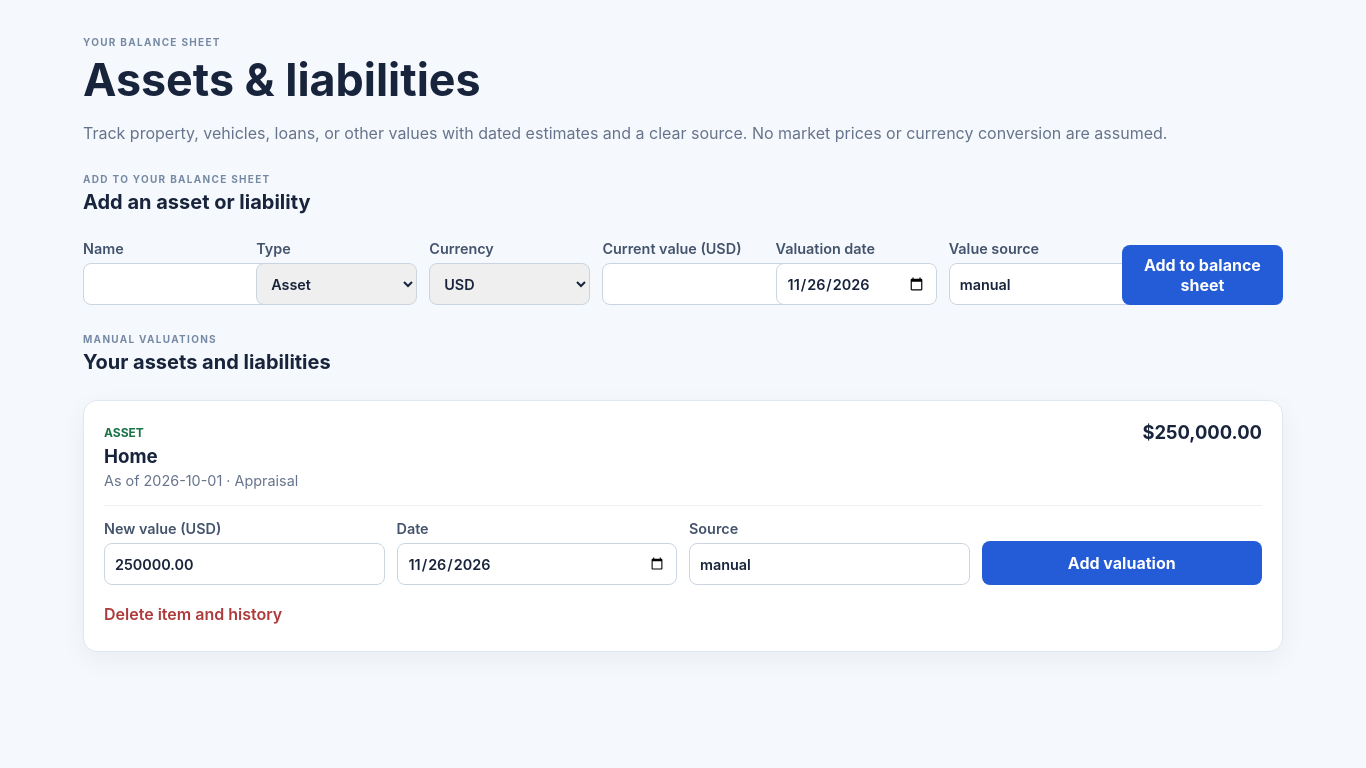
Test: records dated asset valuations with their source
The width and height of the screenshot is (1366, 768).
Expected: the heading "Home" is shown, [104, 445, 158, 468]
Replace the text in the number field labelled "New value (USD)" with "260000" at [244, 564], box [104, 543, 384, 585]
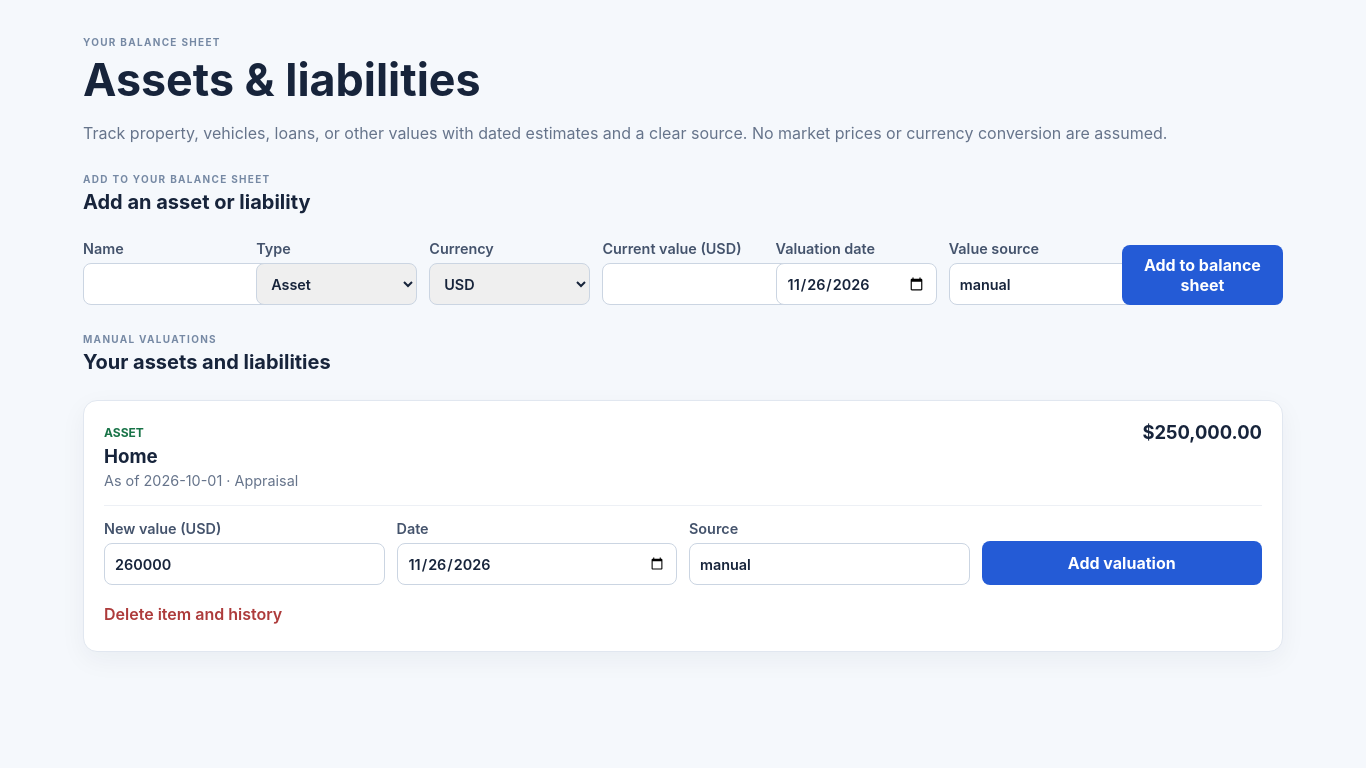
Replace the text in the field labelled "Source" with "Annual appraisal" at [829, 564], box [689, 543, 970, 585]
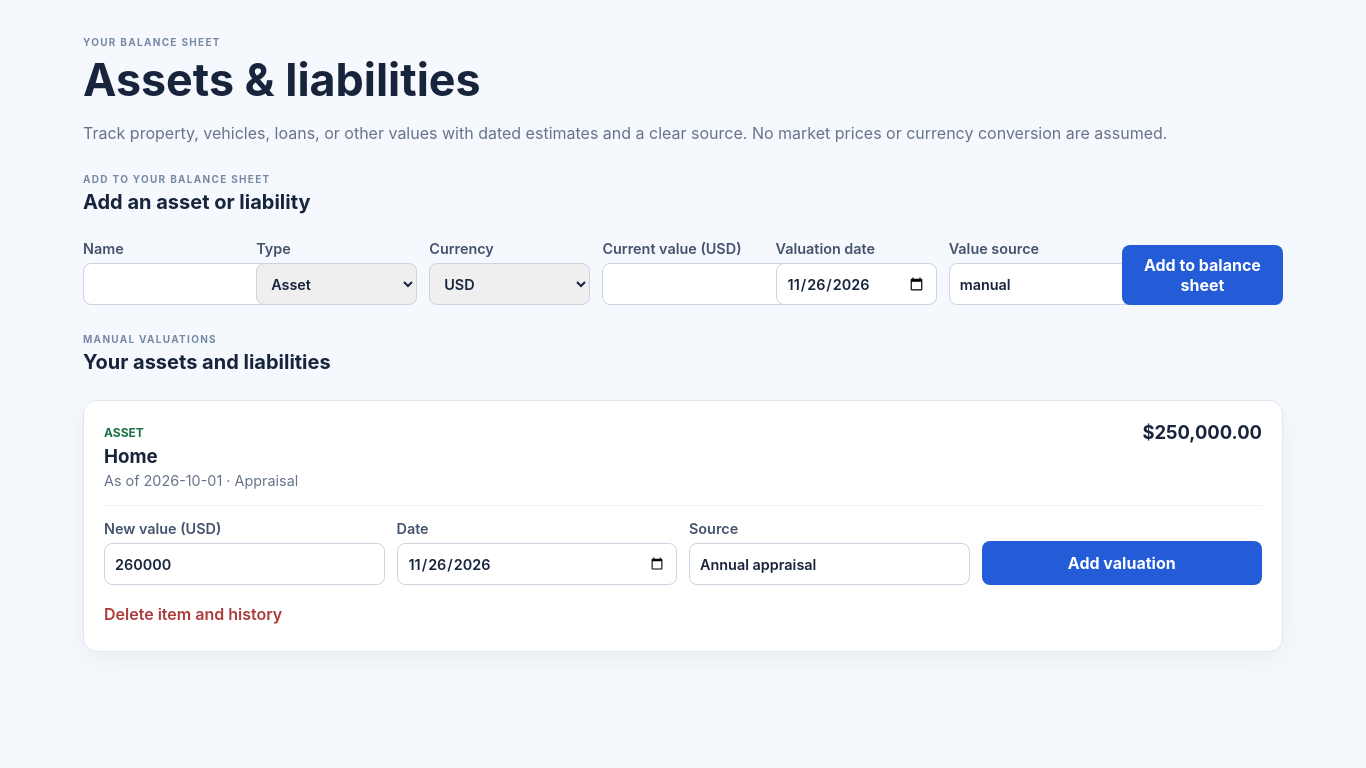
Click the button "Add valuation" at [1122, 563], box [982, 541, 1262, 585]
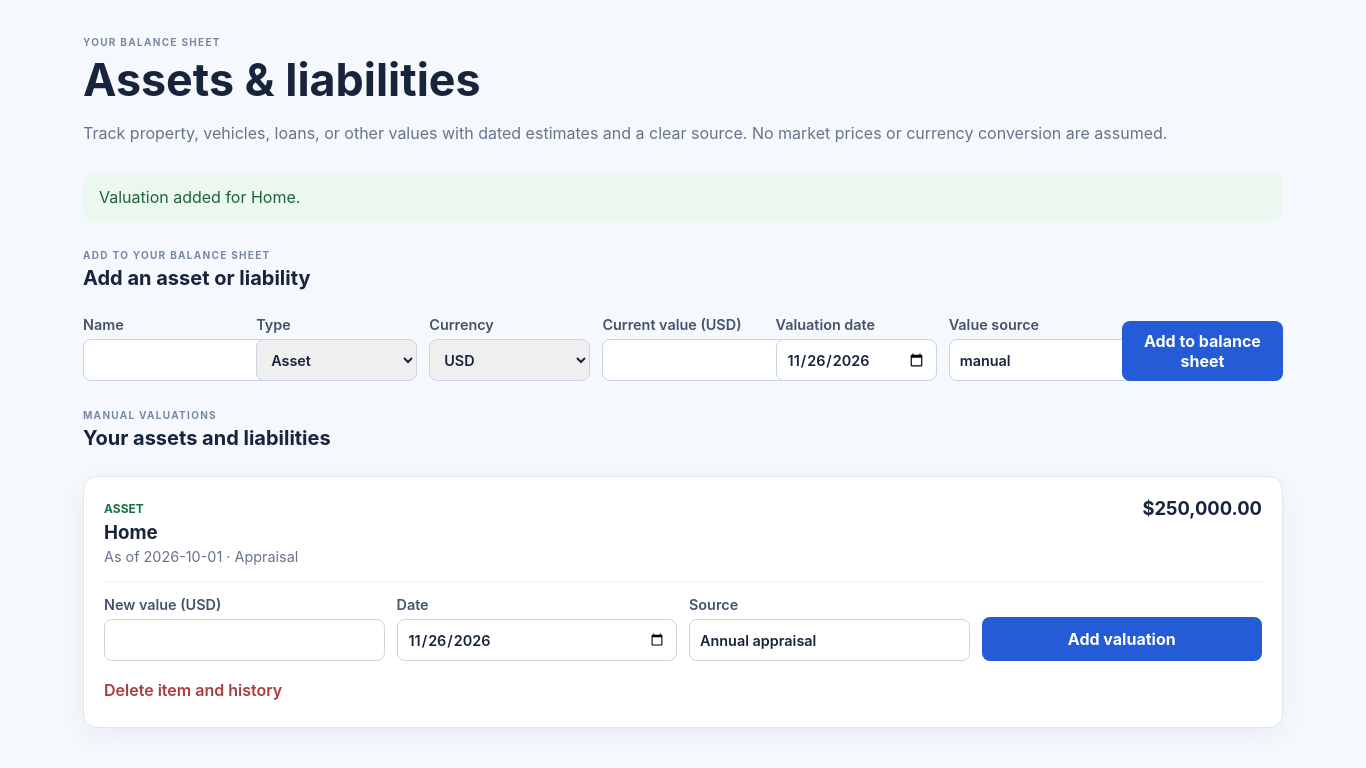
Expected: the message reads "Valuation added for Home.", [99, 187, 300, 207]
